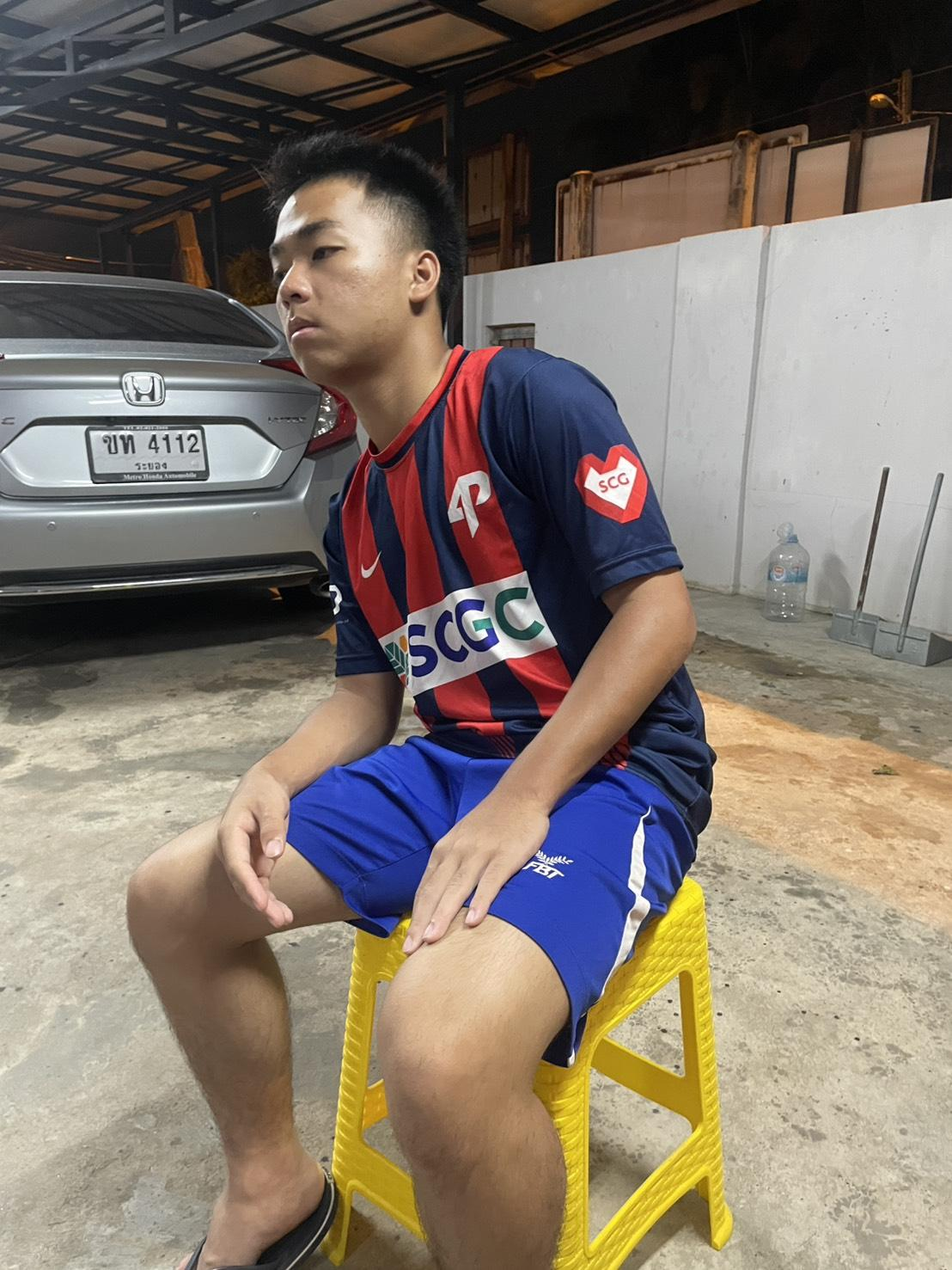BadPosture: (250, 130, 715, 806)
